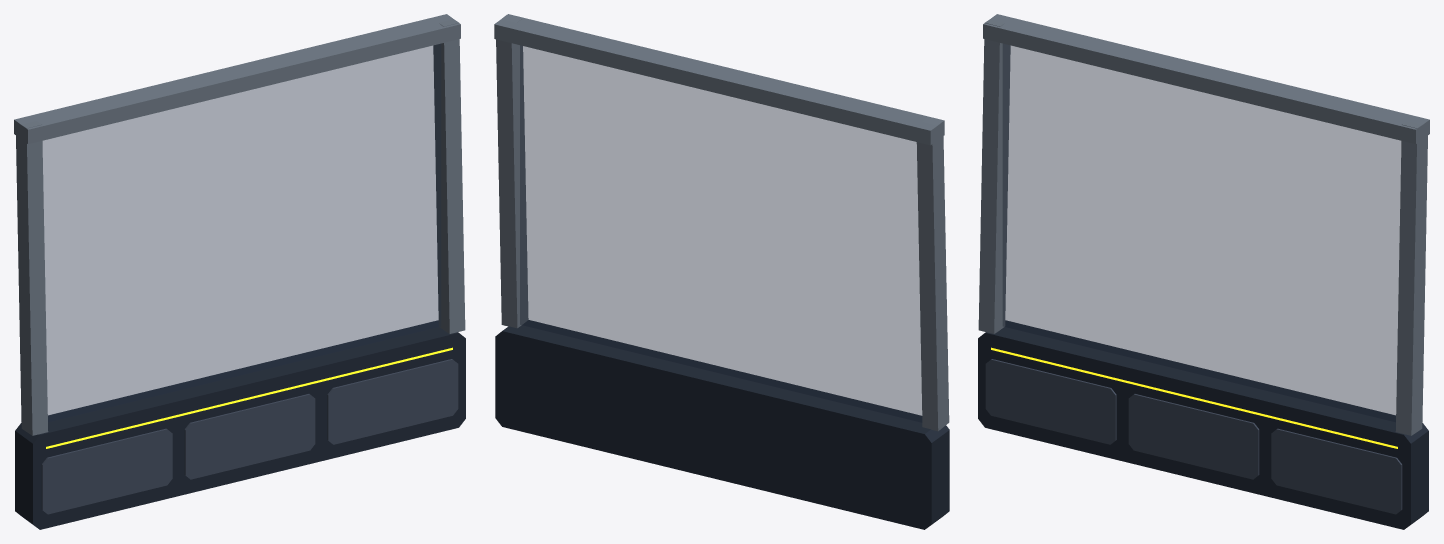
Rendered from fus_control_window_wall.glb.
3 renders of one model, left to right at view 1: azimuth 30°, elevation 25°; view 2: azimuth 150°, elevation 25°; view 3: azimuth 330°, elevation 25°, orthographic.
Parts seen in each view (by area): view 1: lead_glass, anti_glare_mullion, shielded_sill, sill_cassette, sill_light; view 2: lead_glass, shielded_sill, anti_glare_mullion; view 3: lead_glass, anti_glare_mullion, shielded_sill, sill_cassette, sill_light.
Boxes of the visible parts, x1,y1,x2,y2 form: lead_glass: (43, 44, 440, 421); anti_glare_mullion: (14, 14, 465, 435); shielded_sill: (15, 320, 465, 529); sill_cassette: (41, 359, 458, 514); sill_light: (46, 347, 452, 448); lead_glass: (520, 45, 921, 422); shielded_sill: (495, 320, 949, 529); anti_glare_mullion: (494, 14, 949, 431); lead_glass: (1003, 44, 1400, 421); anti_glare_mullion: (978, 14, 1429, 435); shielded_sill: (978, 320, 1428, 529); sill_cassette: (985, 359, 1402, 514); sill_light: (991, 347, 1397, 448).
Bounding box in the file's own units: 5 × 4.4 × 0.4.
